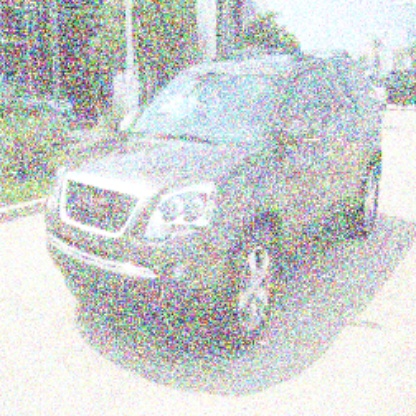Vehicle: (42, 46, 385, 355)
